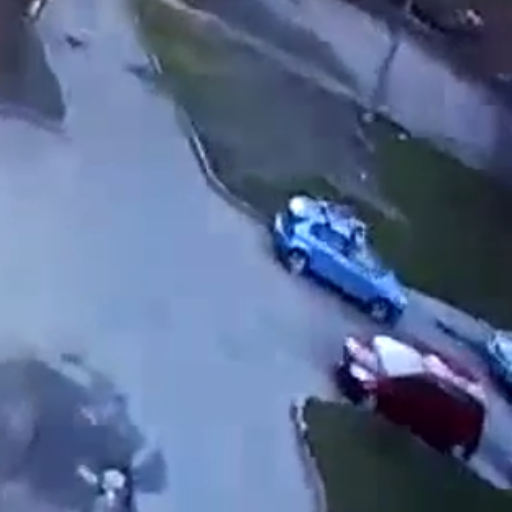Car: (338, 327, 477, 463), (272, 188, 406, 321)
